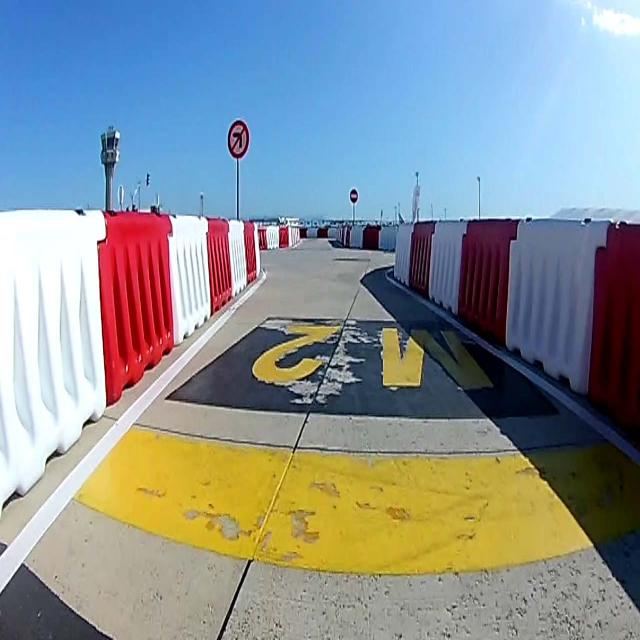girisyok: (350, 188, 358, 204)
soladonulmez: (227, 119, 249, 158)
